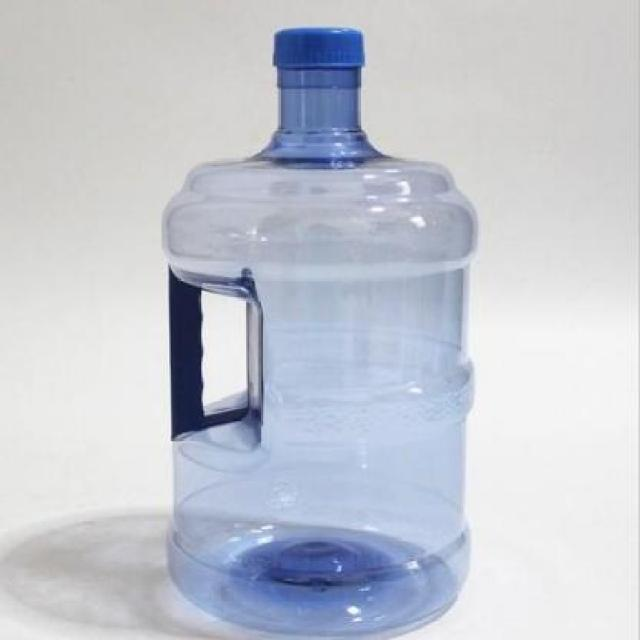coolerbottle: (157, 20, 485, 640)
